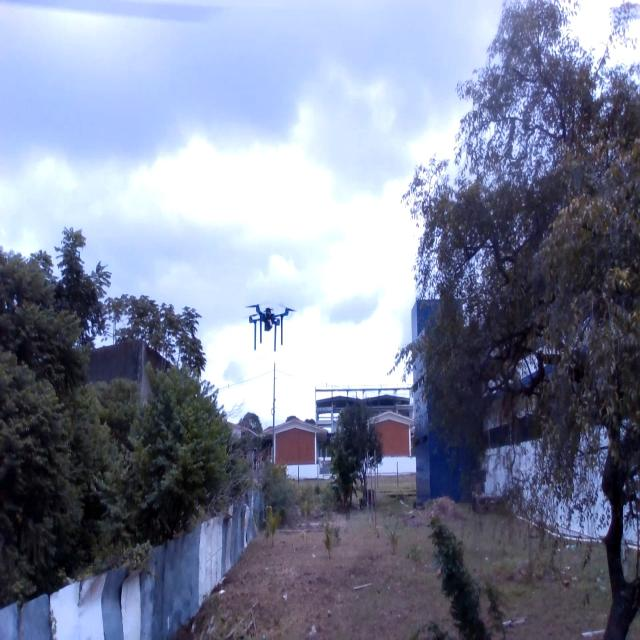-uav-: (239, 292, 306, 363)
